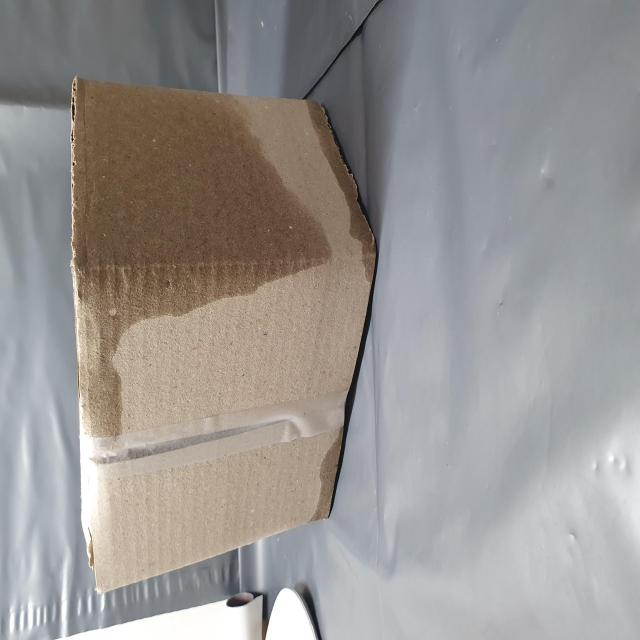wet: (114, 119, 312, 640)
